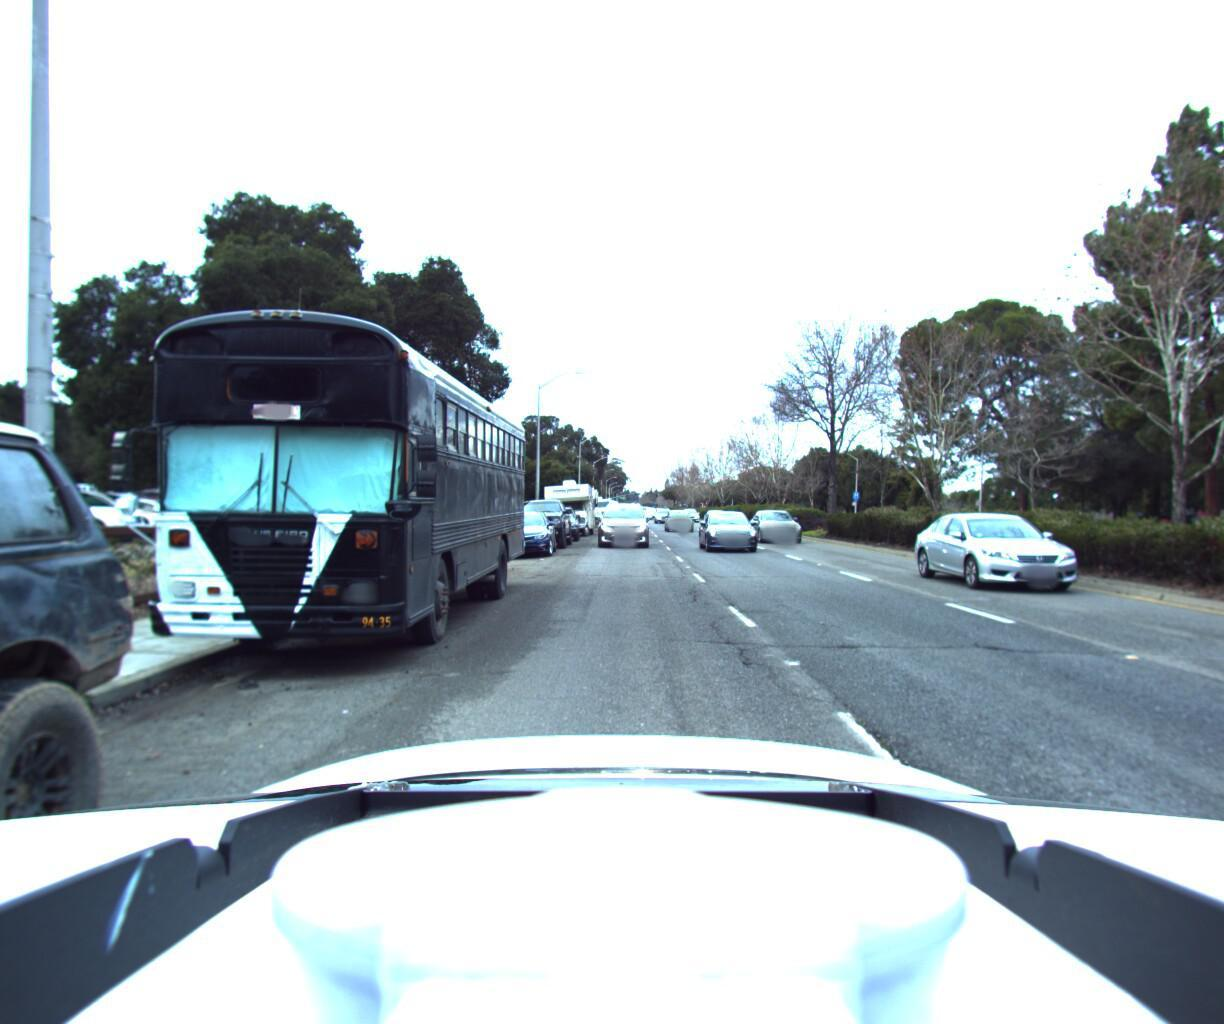bus: (52, 236, 533, 702)
car: (915, 498, 1133, 605), (3, 485, 180, 540), (63, 496, 199, 536), (504, 494, 571, 552), (484, 509, 554, 560), (592, 497, 652, 548), (699, 508, 763, 555), (747, 504, 810, 545), (535, 504, 579, 542), (664, 507, 697, 531)
other_vehicle: (536, 474, 598, 538), (558, 481, 601, 527)
